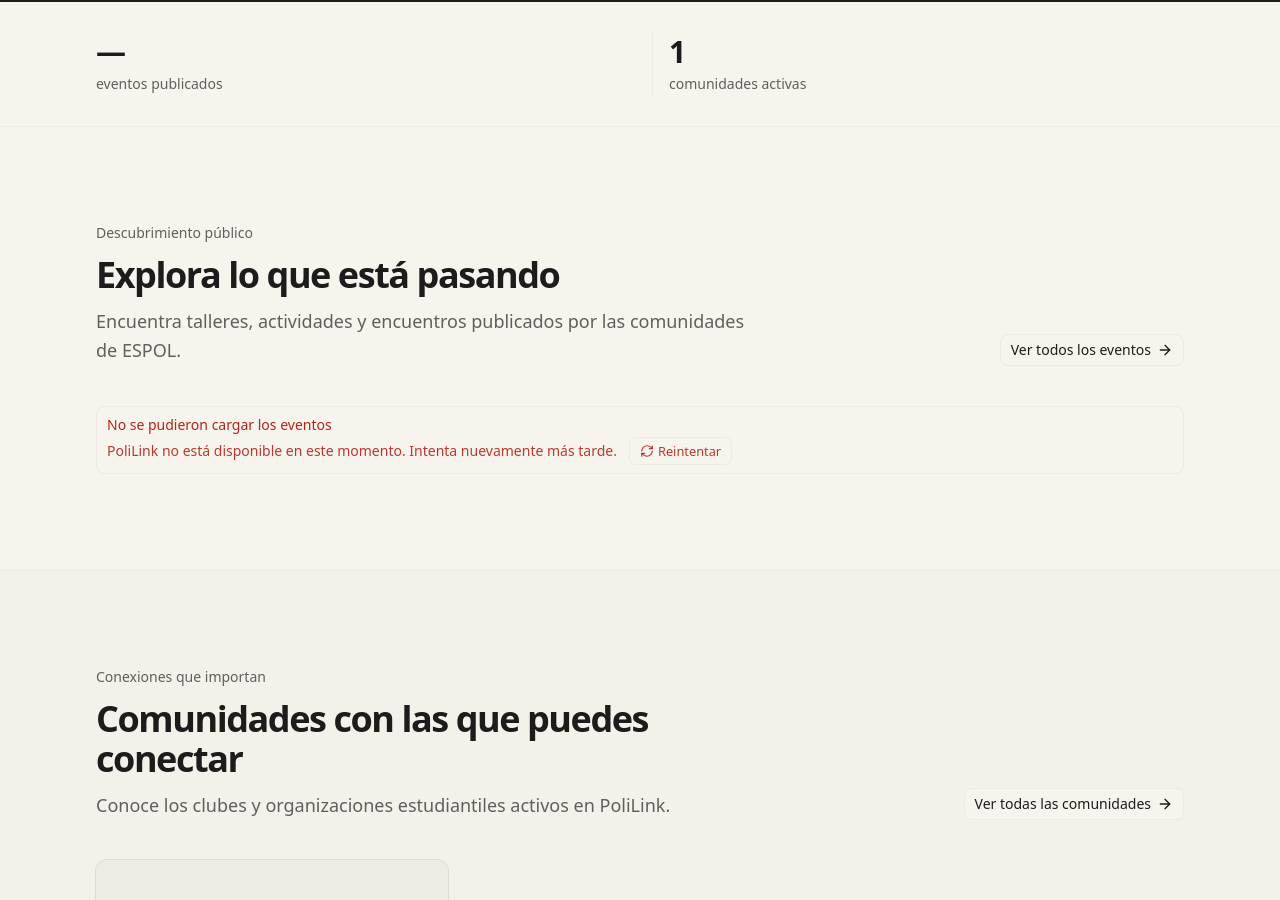
Scenario: landing page › keeps communities available when the events request fails and retries
The image size is (1280, 900).
(page scrolled)
Expected: the text "No se pudieron cargar los eventos" is shown, [107, 415, 332, 434]
Click the button "Reintentar" at (680, 451), box [629, 437, 732, 465]
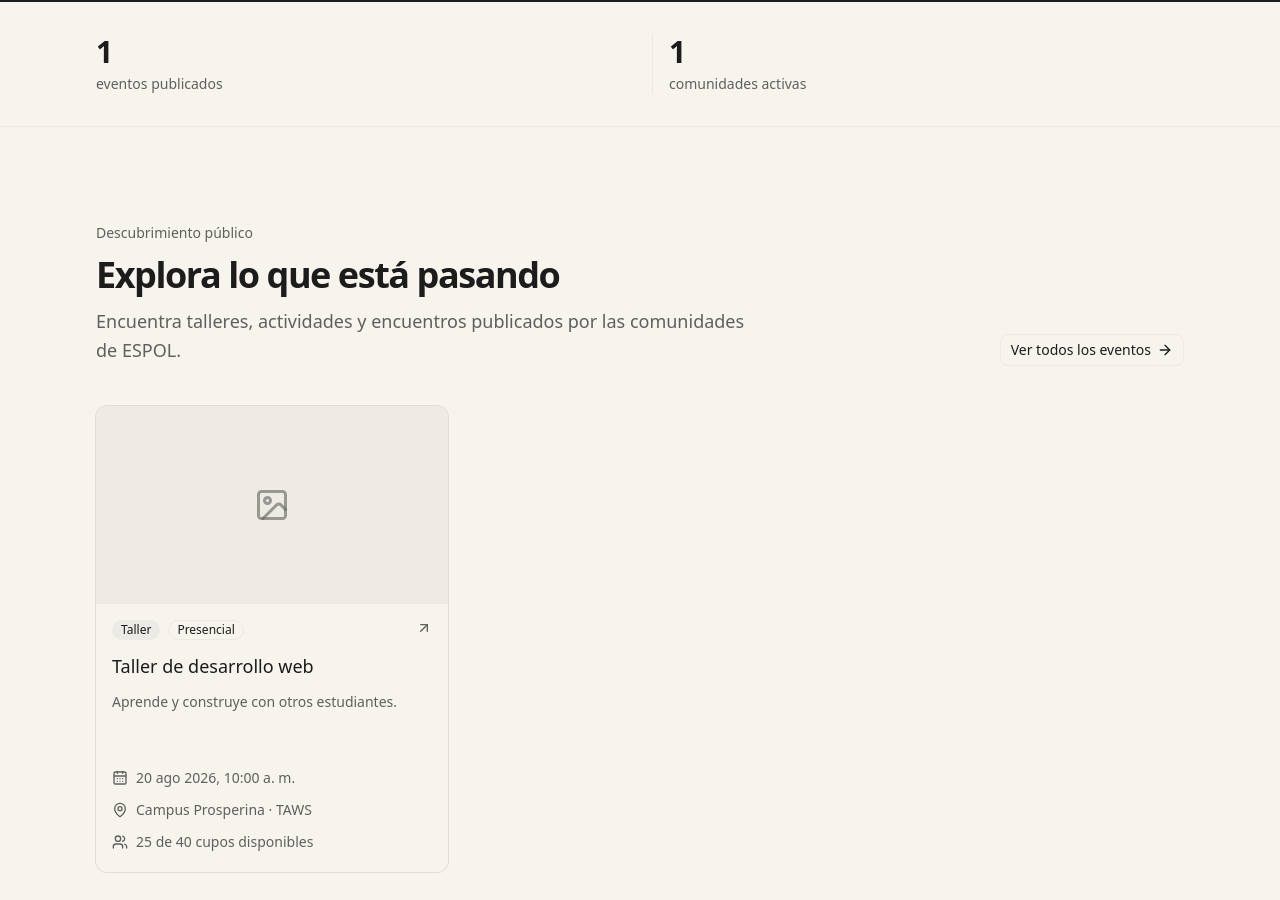
Now the text "Taller de desarrollo web" is shown, box [112, 654, 314, 678]
